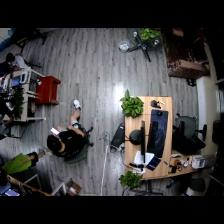normal: (44, 99, 91, 158), (1, 149, 46, 174), (7, 53, 28, 71)
